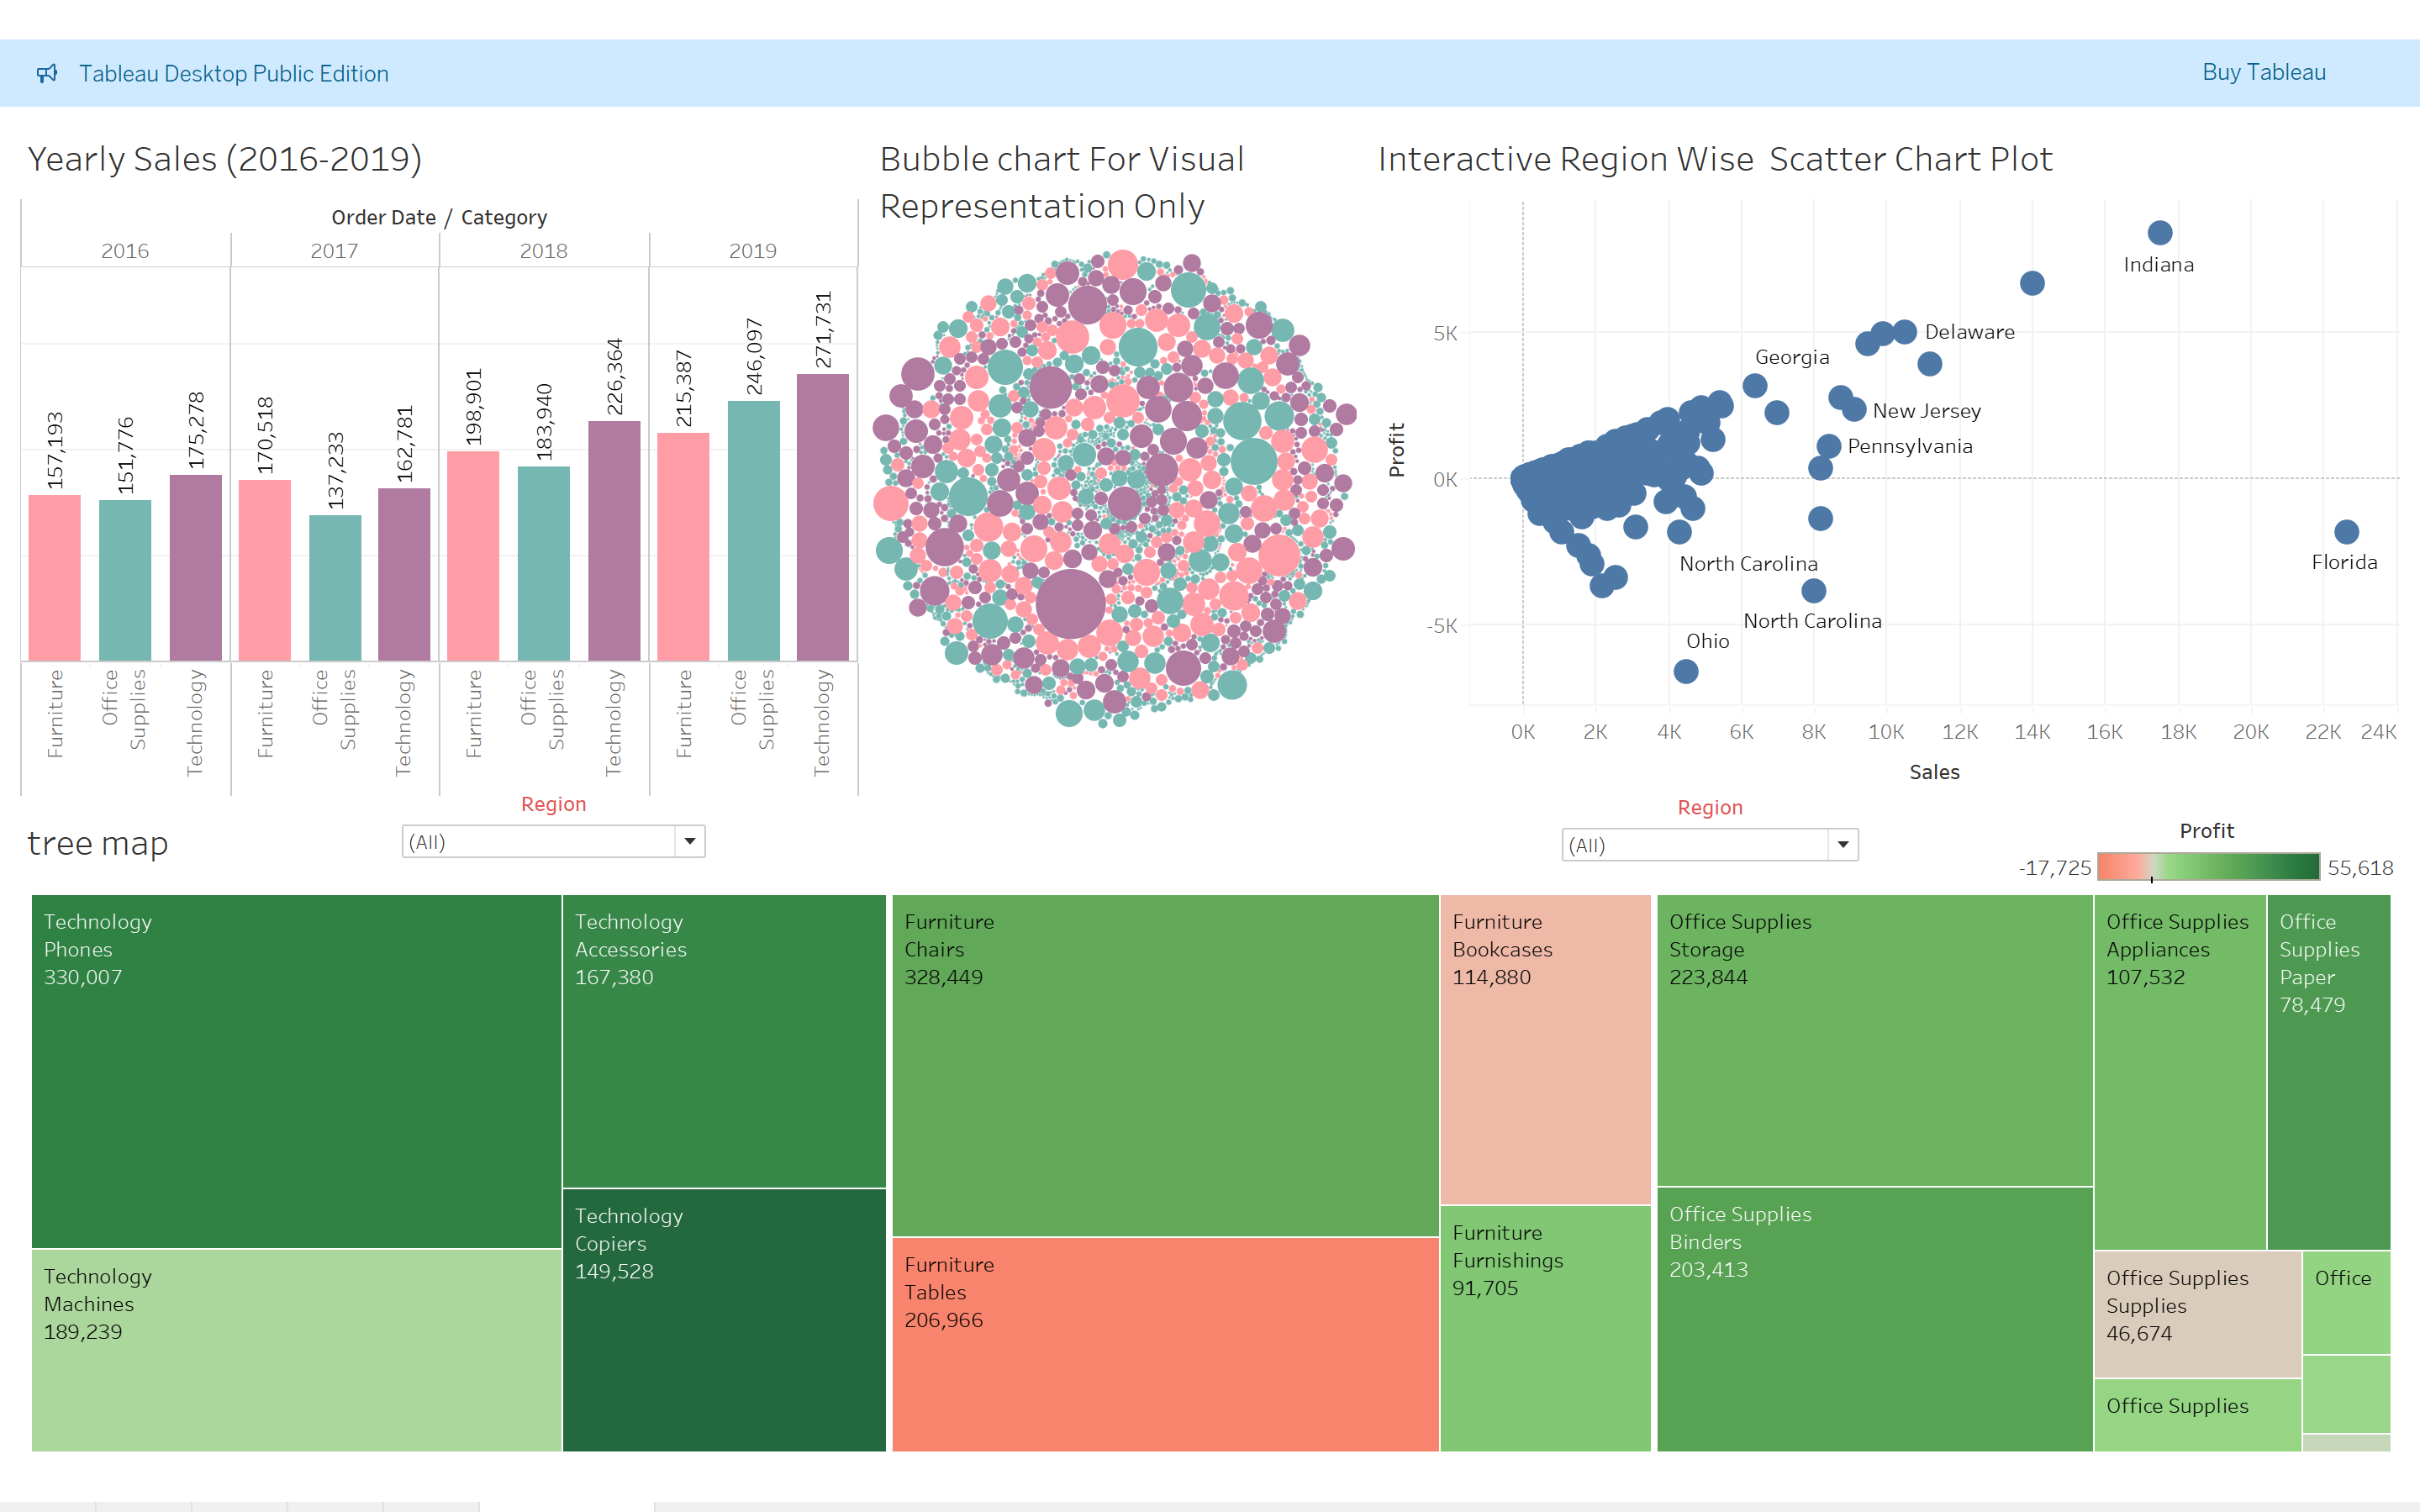

The page's visual inventory and layout, read from the dashboard file:
{"tool":"tableau","page":{"name":"Dashboard 1","canvas":[1000,1000],"units":"permille","ordinal":0},"visuals":[{"type":"worksheet","title":"Sheet 2","mark":"Bar","rows":["Sales"],"cols":["Order Date","Category"],"box":[6.5,11.8,351.4,488.2]},{"type":"worksheet","title":"Sheet 4","mark":"Circle","box":[357.9,11.8,205.1,488.2]},{"type":"worksheet","title":"Sheet 5","mark":"Circle","rows":["Profit"],"cols":["Sales"],"box":[563,11.8,430.5,488.2]},{"type":"filter","title":"Sheet 2","param":"[federated.0diz4rk1cwzo2k1dgq7wd08363dc].[none:Region:nk]","box":[163.6,489.6,130.2,65.1]},{"type":"filter","title":"Sheet 5","param":"[federated.0diz4rk1cwzo2k1dgq7wd08363dc].[none:Region:nk]","box":[642.8,491.1,126.9,66.6]},{"type":"worksheet","title":"Sheet 3","mark":"Automatic","box":[6.5,500,987,488.2]},{"type":"legend","title":"Sheet 3","param":"[federated.0diz4rk1cwzo2k1dgq7wd08363dc].[sum:Profit:qk]","box":[831.6,508.9,161.1,59.2]}]}

Visuals, with their boxes on the dashboard's canvas, which has no fixed pixel size, in thousandths of its width and height (x1, y1, x2, y2). These are canvas units, not pixel positions in the 2420x1512 screenshot, which may show the page scaled, cropped or inside an application window:
"Sheet 2" worksheet (Bar marks): BBox(6, 12, 358, 500)
"Sheet 4" worksheet (Circle marks): BBox(358, 12, 563, 500)
"Sheet 5" worksheet (Circle marks): BBox(563, 12, 994, 500)
"Sheet 2" filter: BBox(164, 490, 294, 555)
"Sheet 5" filter: BBox(643, 491, 770, 558)
"Sheet 3" worksheet: BBox(6, 500, 994, 988)
"Sheet 3" legend: BBox(832, 509, 993, 568)
